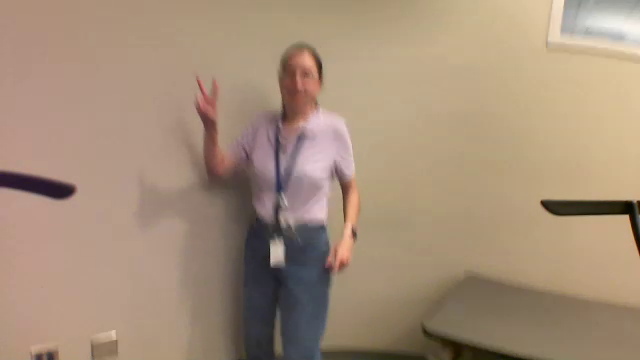peace: (186, 70, 225, 123)
